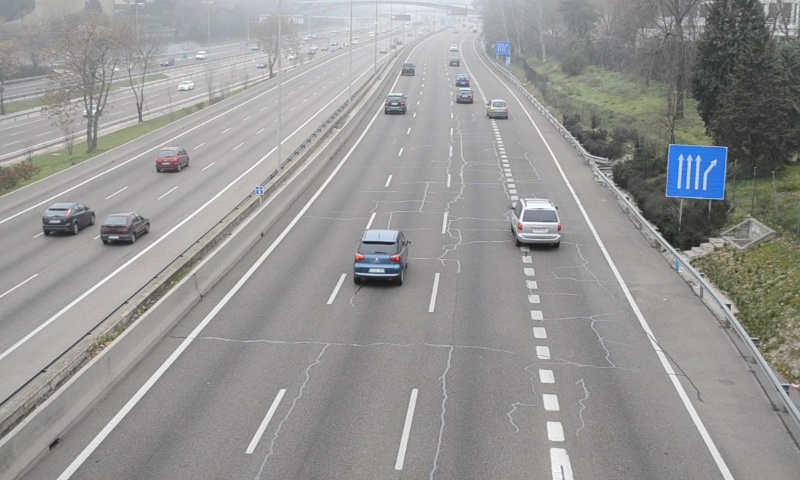car: (352, 229, 409, 282), (510, 198, 560, 244), (384, 92, 406, 115), (486, 98, 508, 120), (456, 86, 474, 104)
